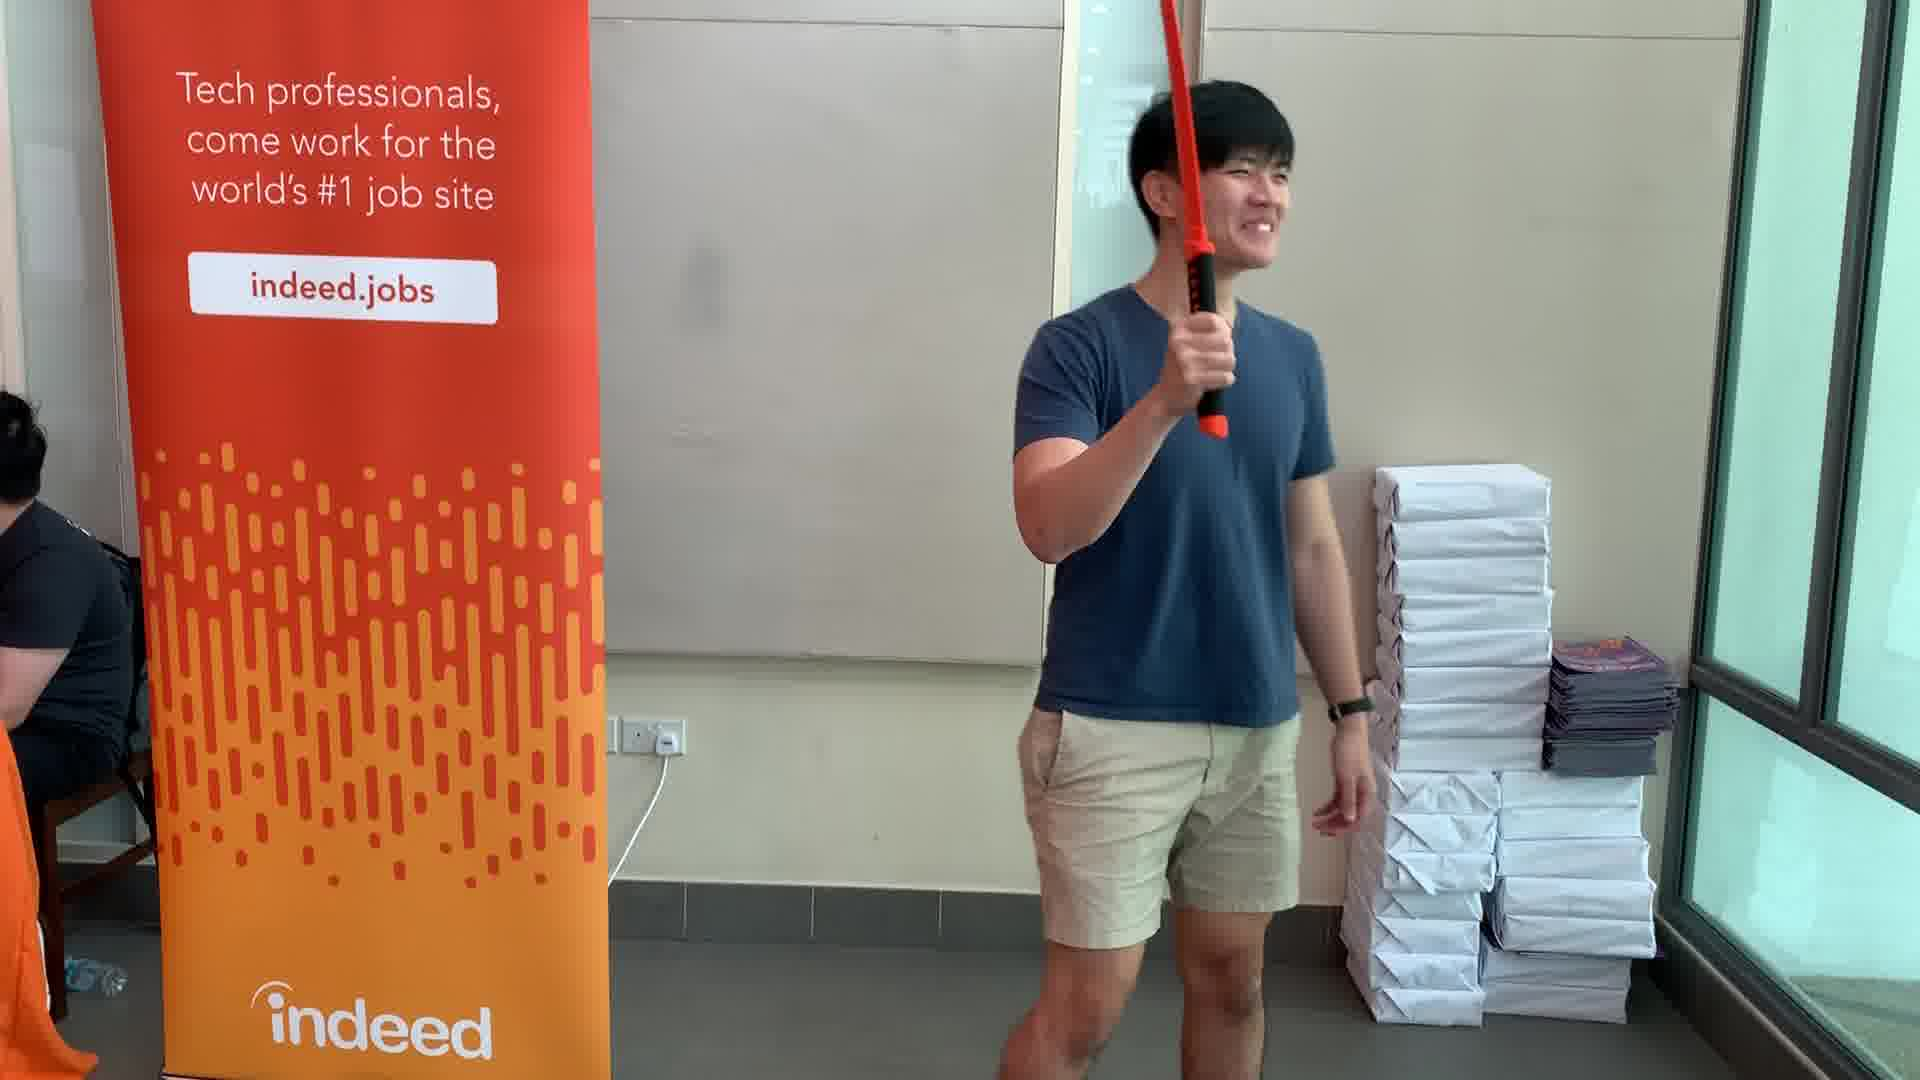knife: (1153, 1, 1240, 444)
